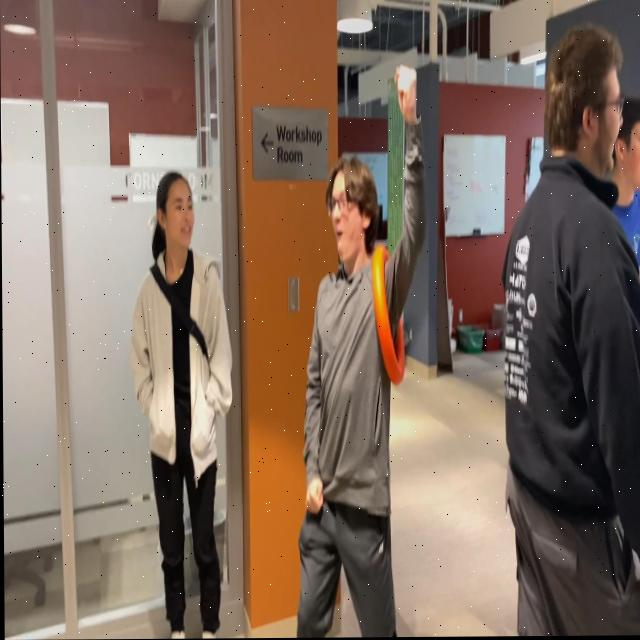note: (369, 242, 407, 384)
